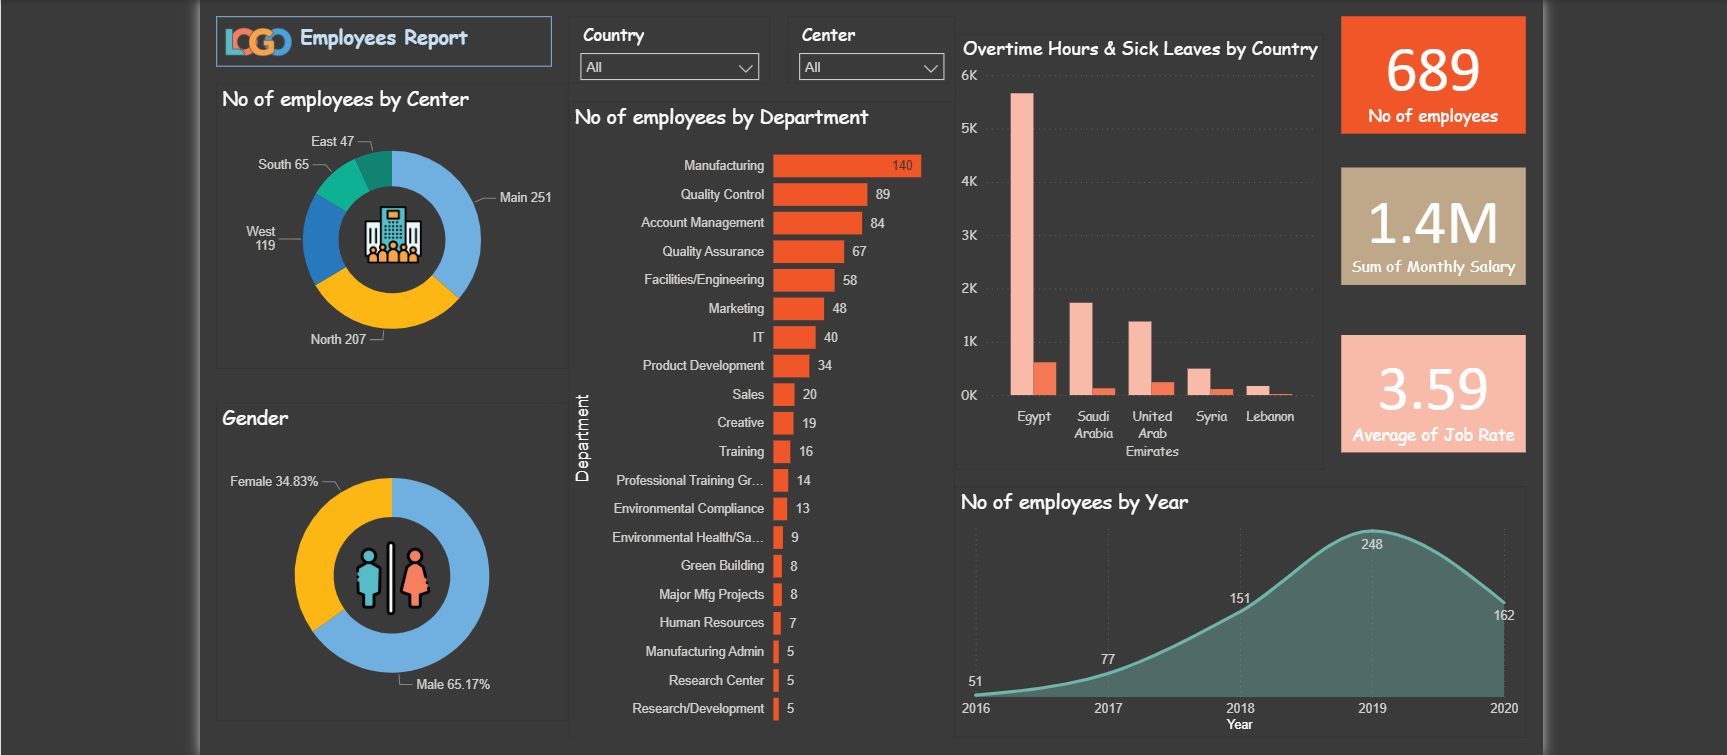

The page's visual inventory and layout, read from the dashboard file:
{"tool":"powerbi","page":{"name":"Page 1","canvas":[1280,720],"ordinal":0},"visuals":[{"type":"clusteredBarChart","title":"No of employees by Department","fields":{"Category":["EmpTable.Department"],"Y":["CountNonNull(EmpTable.No)"]},"box":[376.6,103.8,366,597.5],"z":0},{"type":"donutChart","title":"No of employees by Center","fields":{"Category":["EmpTable.Center"],"Y":["CountNonNull(EmpTable.No)"]},"box":[9.3,89.2,350,280.8],"z":1000},{"type":"donutChart","title":"Gender","fields":{"Category":["EmpTable.Gender"],"Y":["CountNonNull(EmpTable.Gender)"]},"box":[9.3,408.6,350,292.8],"z":2000},{"type":"map","fields":{"Category":["EmpTable.Country"],"Size":["Sum(EmpTable.No)"]},"box":[751.9,13.3,314.1,439.2],"z":3000},{"type":"areaChart","title":"No of employees by Year","fields":{"Category":["EmpTable.Start Date.Variation.Date Hierarchy.Year","EmpTable.Start Date.Variation.Date Hierarchy.Quarter","EmpTable.Start Date.Variation.Date Hierarchy.Month","EmpTable.Start Date.Variation.Date Hierarchy.Day"],"Y":["CountNonNull(EmpTable.No)"]},"box":[751.9,464.5,528.3,236.9],"z":4000},{"type":"card","fields":{"Values":["Sum(EmpTable.Monthly Salary)"]},"box":[1075.3,165,189,110.5],"z":5000},{"type":"card","fields":{"Values":["CountNonNull(EmpTable.No)"]},"box":[1075.3,16,189,109.1],"z":6000},{"type":"card","fields":{"Values":["Avg(EmpTable.Job Rate)"]},"box":[1075.3,326.1,189,110.5],"z":7000},{"type":"slicer","fields":{"Values":["EmpTable.Country"]},"box":[376.6,13.3,190.3,69.2],"z":8000},{"type":"slicer","fields":{"Values":["EmpTable.Center"]},"box":[584.2,13.3,158.4,69.2],"z":9000},{"type":"textbox","box":[27.9,13.3,318.1,43.9],"z":10000},{"type":"image","box":[27.9,16,81.2,34.6],"z":11000},{"type":"image","box":[142.2,525.6,85.6,85.6],"z":12000},{"type":"image","box":[150,205.6,67.8,70],"z":13000}]}

Visuals, with their boxes on the page's 1280x720 design canvas (x1, y1, x2, y2). These are canvas units, not pixel positions in the 1727x755 screenshot, which may show the page scaled, cropped or inside an application window:
"No of employees by Department" clusteredBarChart: pyautogui.locateOnScreen(377, 104, 743, 701)
"No of employees by Center" donutChart: pyautogui.locateOnScreen(9, 89, 359, 370)
"Gender" donutChart: pyautogui.locateOnScreen(9, 409, 359, 701)
map - EmpTable.Country x Sum(EmpTable.No): pyautogui.locateOnScreen(752, 13, 1066, 452)
"No of employees by Year" areaChart: pyautogui.locateOnScreen(752, 464, 1280, 701)
card - Sum(EmpTable.Monthly Salary): pyautogui.locateOnScreen(1075, 165, 1264, 276)
card - CountNonNull(EmpTable.No): pyautogui.locateOnScreen(1075, 16, 1264, 125)
card - Avg(EmpTable.Job Rate): pyautogui.locateOnScreen(1075, 326, 1264, 437)
slicer - EmpTable.Country: pyautogui.locateOnScreen(377, 13, 567, 82)
slicer - EmpTable.Center: pyautogui.locateOnScreen(584, 13, 743, 82)
textbox: pyautogui.locateOnScreen(28, 13, 346, 57)
image: pyautogui.locateOnScreen(28, 16, 109, 51)
image: pyautogui.locateOnScreen(142, 526, 228, 611)
image: pyautogui.locateOnScreen(150, 206, 218, 276)
